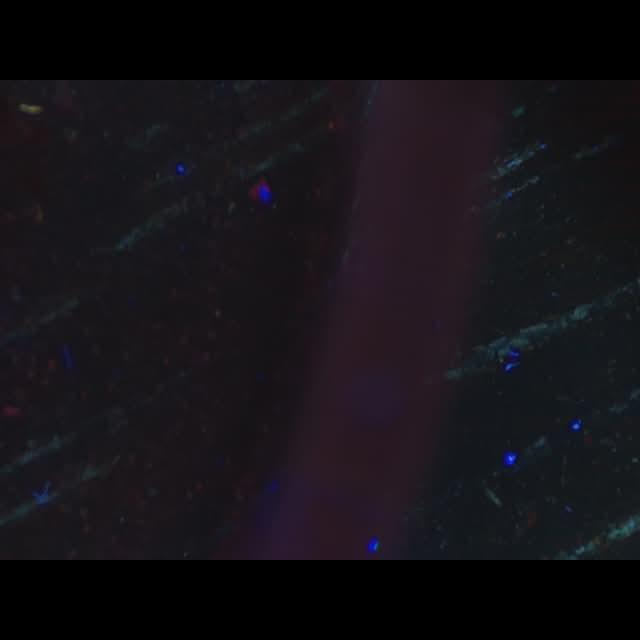microbeads: (18, 104, 44, 114)
